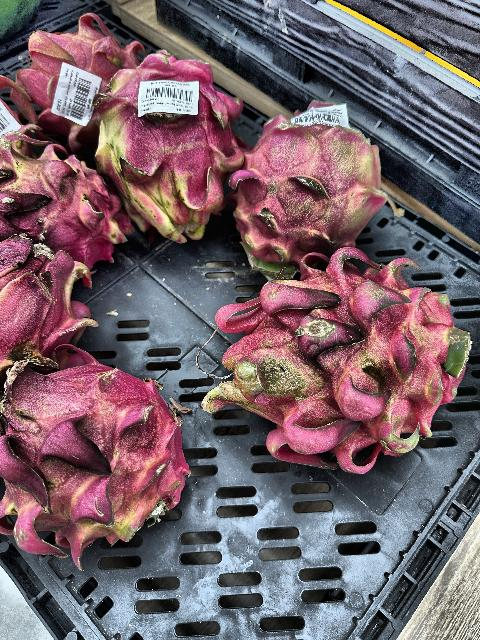buah-naga-belum-matang: (211, 267, 473, 453), (0, 342, 200, 538), (223, 100, 391, 258), (100, 64, 242, 230), (0, 144, 128, 258), (7, 28, 131, 132), (0, 232, 94, 358)
